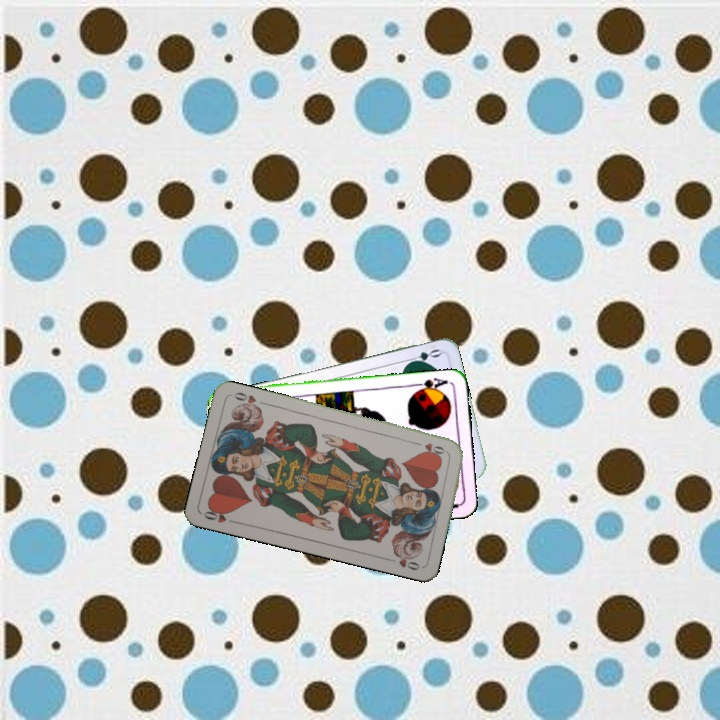GO: (403, 345, 443, 367)
HO: (200, 504, 239, 526), (410, 438, 450, 457)
SA: (411, 374, 451, 395)
